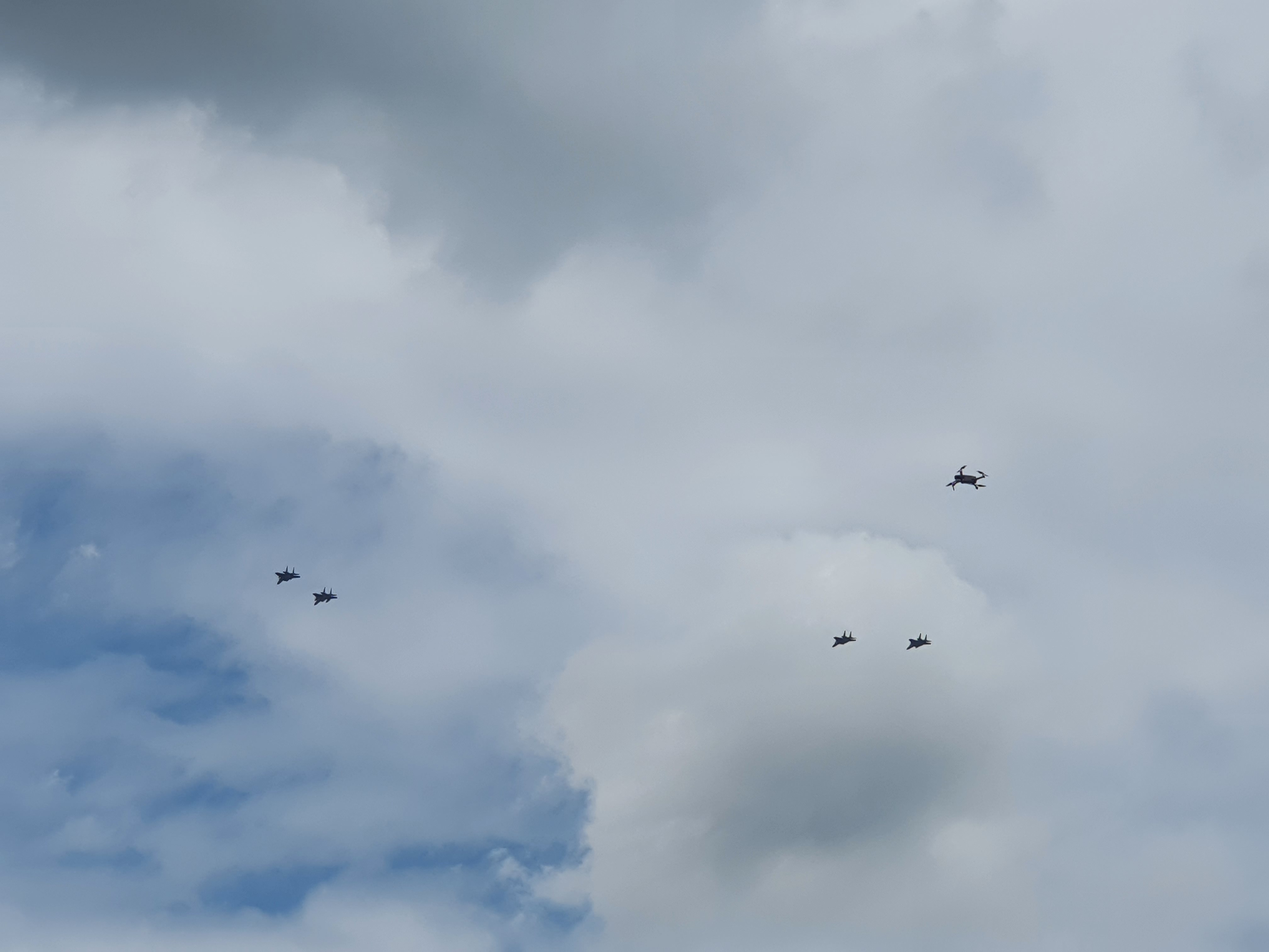drone_other: (948, 463, 990, 496)
